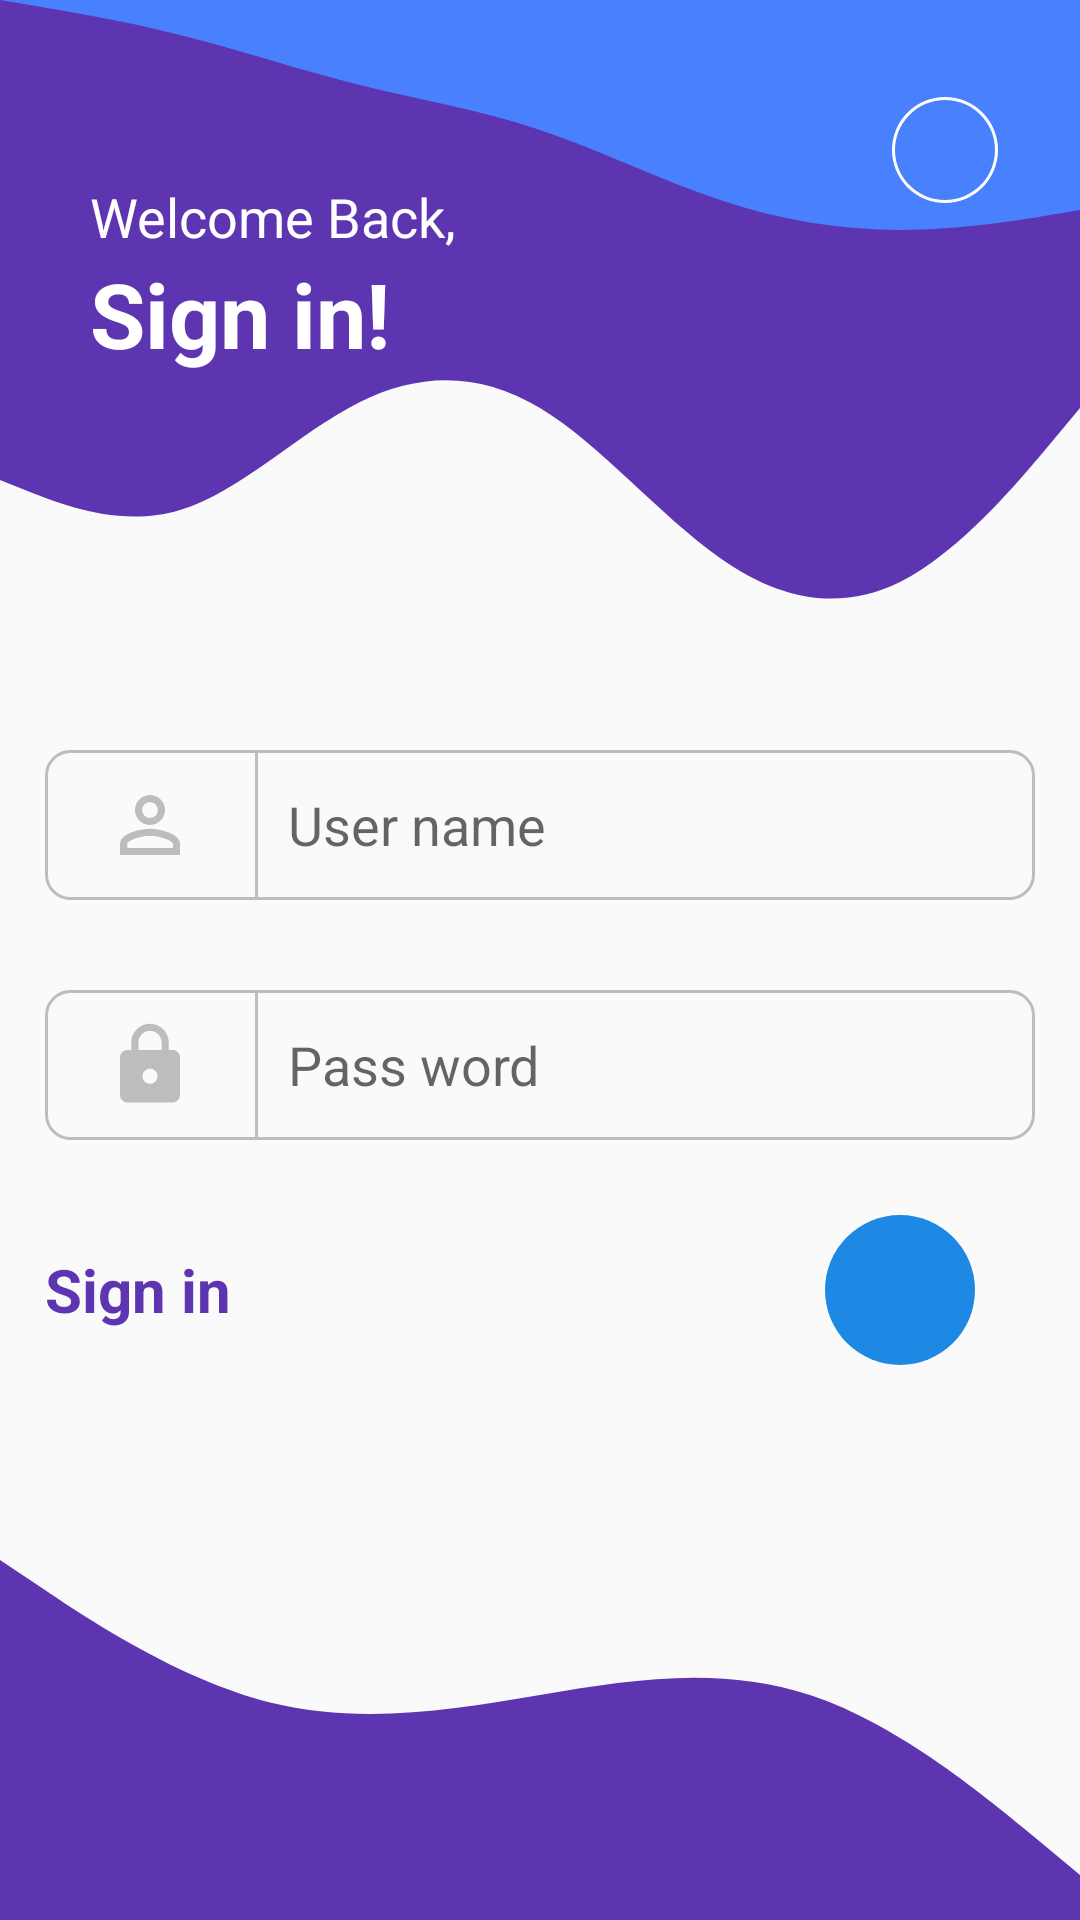

Icon bounding boxes for this 1080px×1920px phone screenshot, format (x1, y1, x2, y2):
lock: (120, 1024, 180, 1103)
